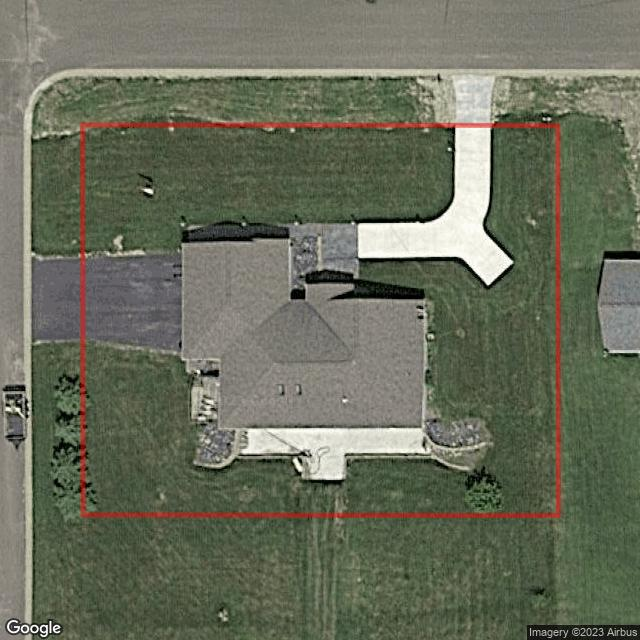Driveway: (358, 130, 512, 283), (86, 258, 180, 349)
Extra Driveway: (32, 258, 79, 339)
Extra Lawn: (32, 340, 80, 515), (32, 134, 79, 255)
Extra Sidewalk: (286, 224, 359, 288)
House: (176, 238, 429, 431)
